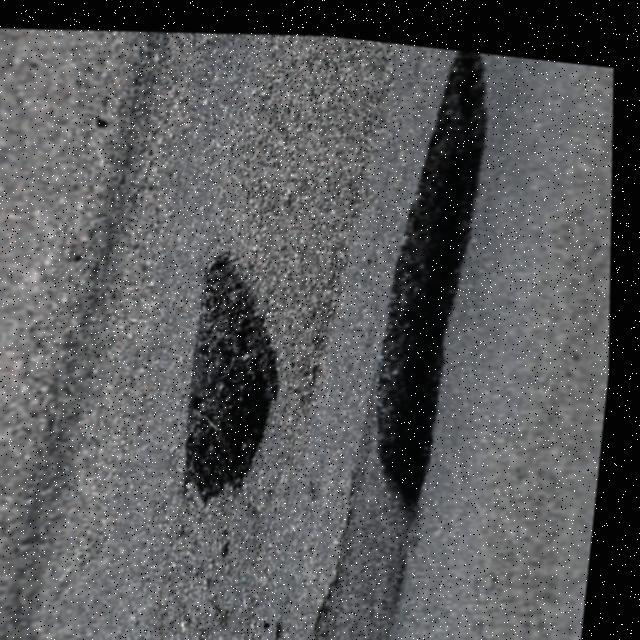pothole: (314, 31, 557, 522), (160, 236, 327, 505)
